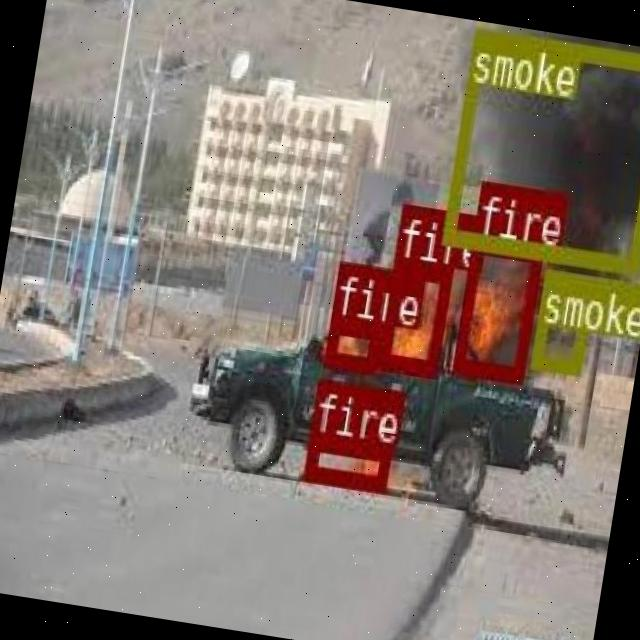fire: (450, 235, 542, 383), (376, 258, 451, 374), (302, 433, 390, 490), (322, 313, 382, 372)
smoke: (441, 27, 640, 271), (530, 266, 596, 372)
